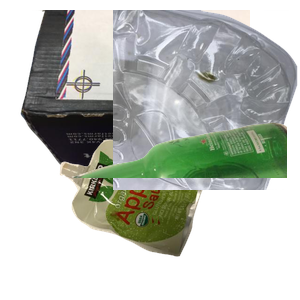cardboard: (18, 10, 258, 171)
glass: (60, 120, 300, 300)
plastic: (113, 10, 300, 190)
trash: (57, 137, 257, 300)
